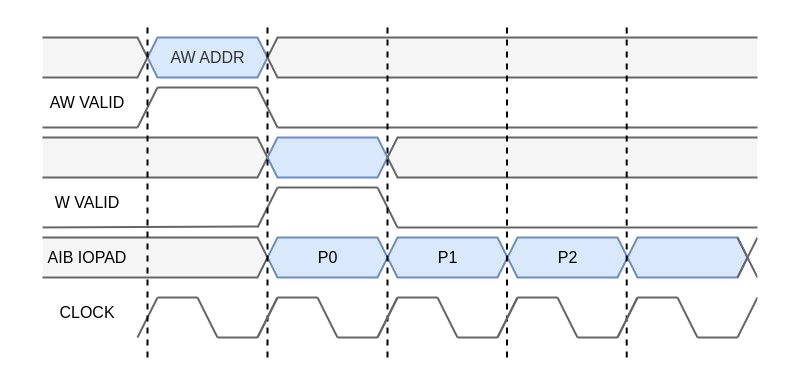
Some shapes in this 809 by 384 pixel diagram are drawn without their labels. The centre of each missing label's shape, as x and y in pixels:
"P3" belongs at point (687, 257).
"W DATA" belongs at point (327, 157).
